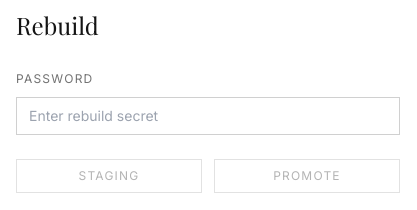
RebuildPage › buttons are enabled once password is entered
Step 1. Type "secret" into the password field labelled "Password" → (208, 116), box top-left (16, 97), bottom-right (400, 135)
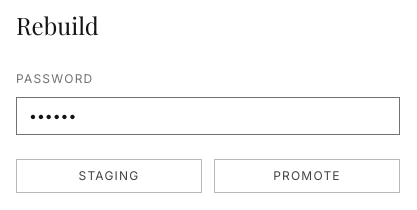
Expected: the button "Staging" is enabled, top-left (16, 159), bottom-right (202, 193)
Expected: the button "Promote" is enabled, top-left (214, 159), bottom-right (400, 193)
